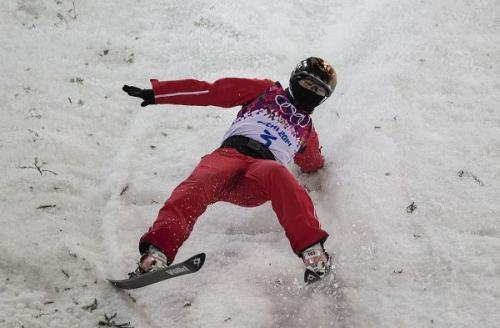falling: (115, 37, 346, 298)
